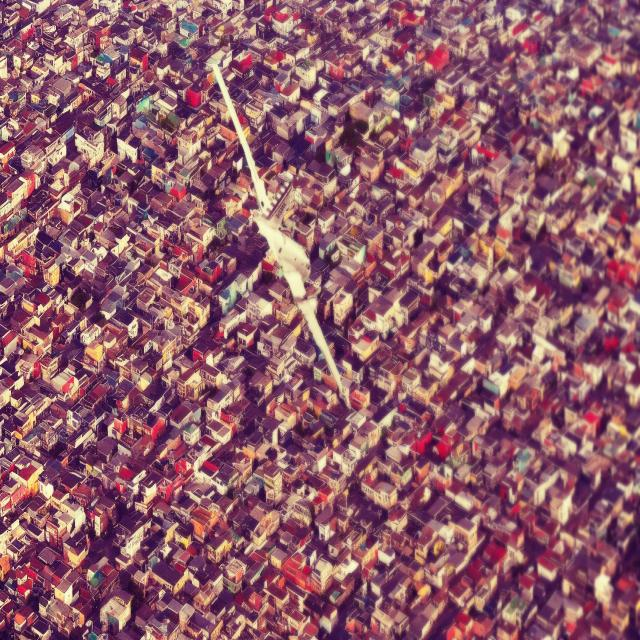airplane: (213, 64, 342, 393)
